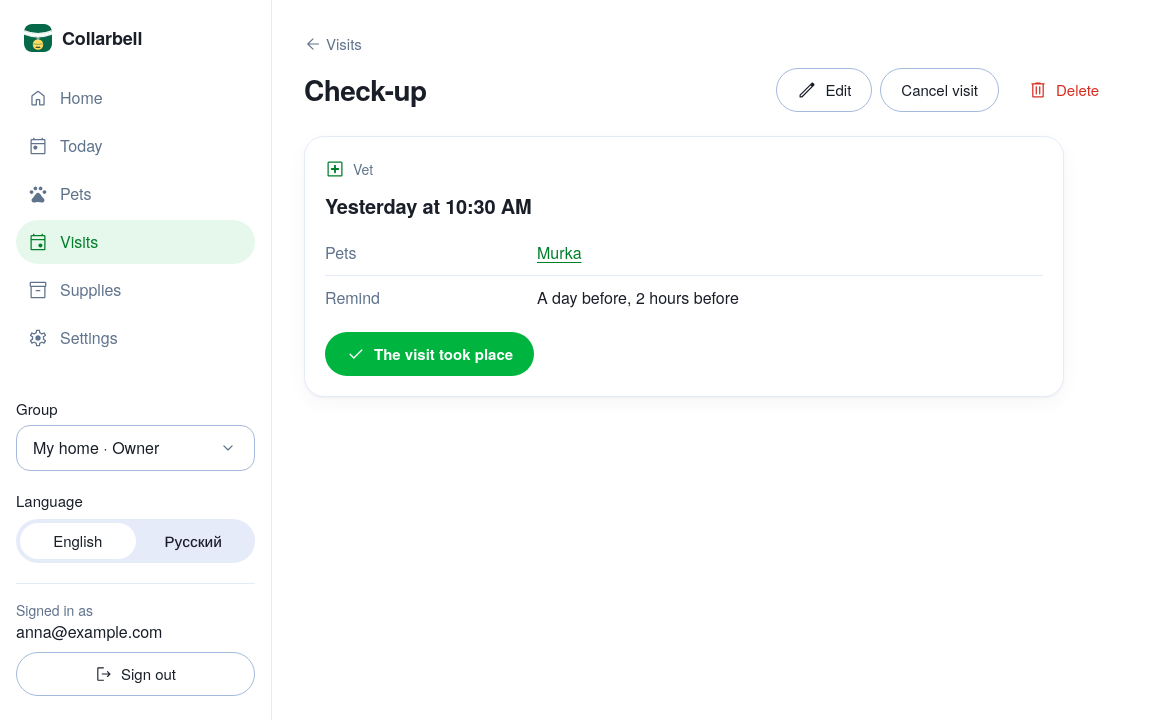
Test case: visits › marks a visit as took place: a check-up for the pet, and its yearly plan done
The width and height of the screenshot is (1152, 720).
Click the button "The visit took place" at (430, 354), box [325,332,534,376]
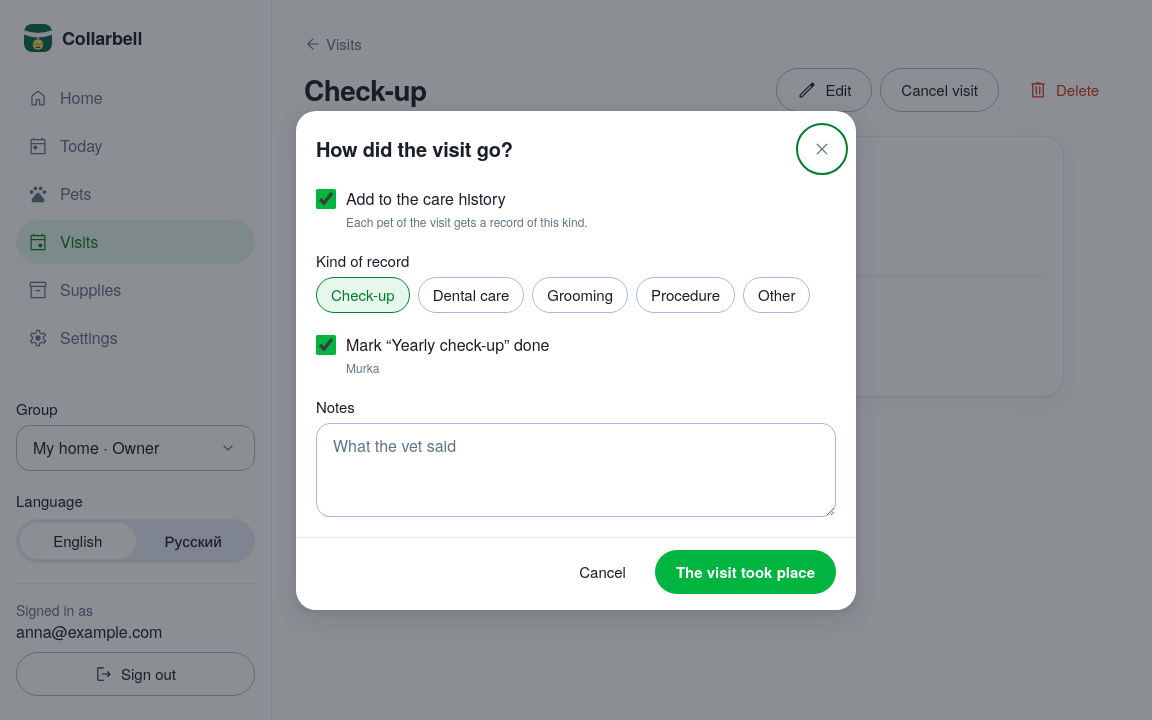
expect the checkbox labelled "Add to the care history" is checked: met, box [316,189,336,209]
expect the radio button labelled "Check-up" is checked: met, box [316,276,410,312]
expect the checkbox labelled "Mark “Yearly check-up” done" is checked: met, box [316,335,336,355]
Type "All well" into the text box labelled "Notes" at (576, 470), box [316,422,836,516]
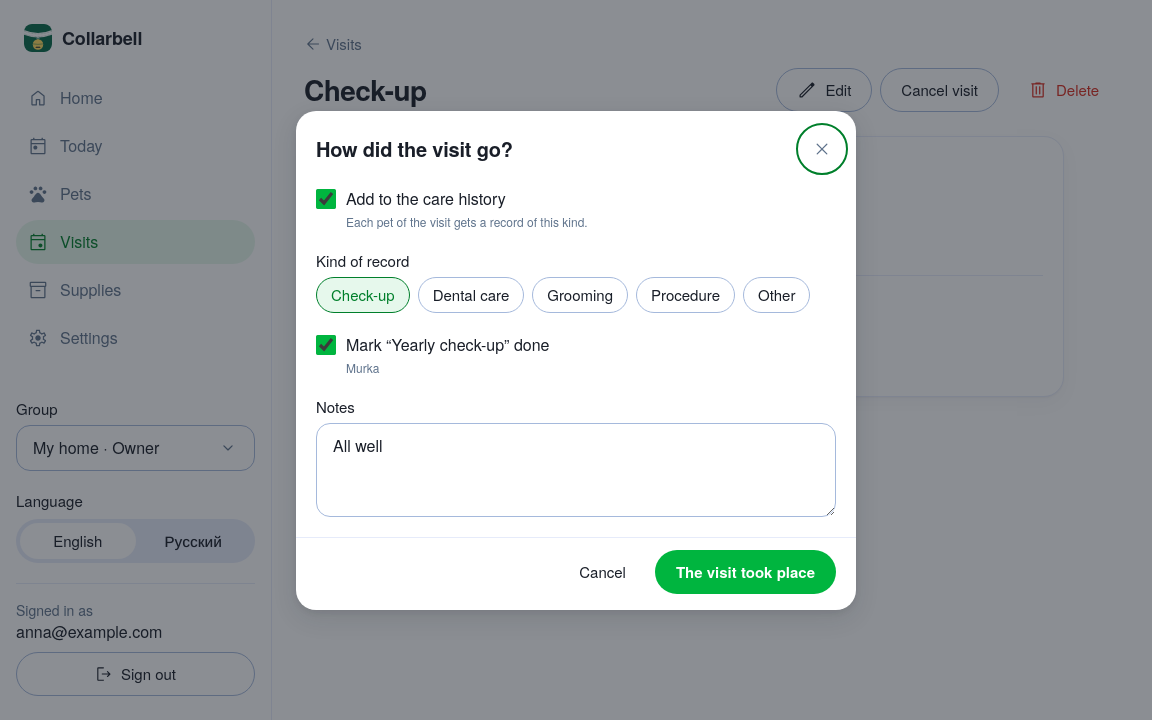
Click the button "The visit took place" at (745, 572), box [655,550,836,594]
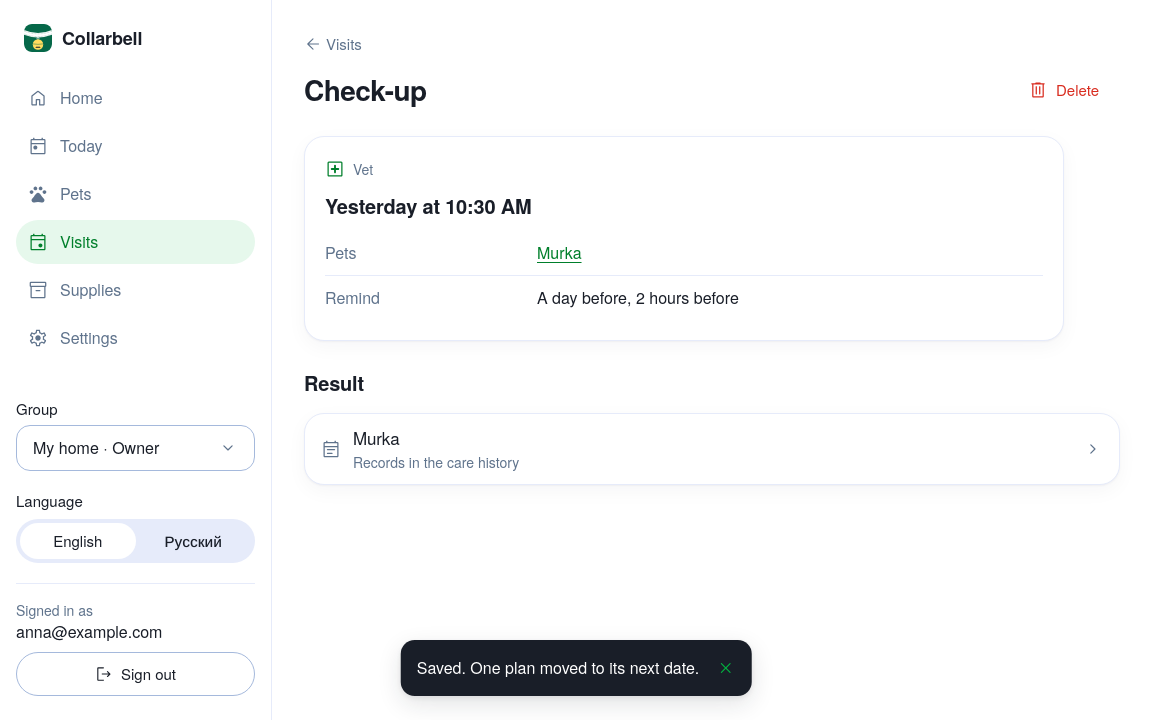
expect the text "Saved. One plan moved to its next date." is shown: met, box [417,656,699,680]
